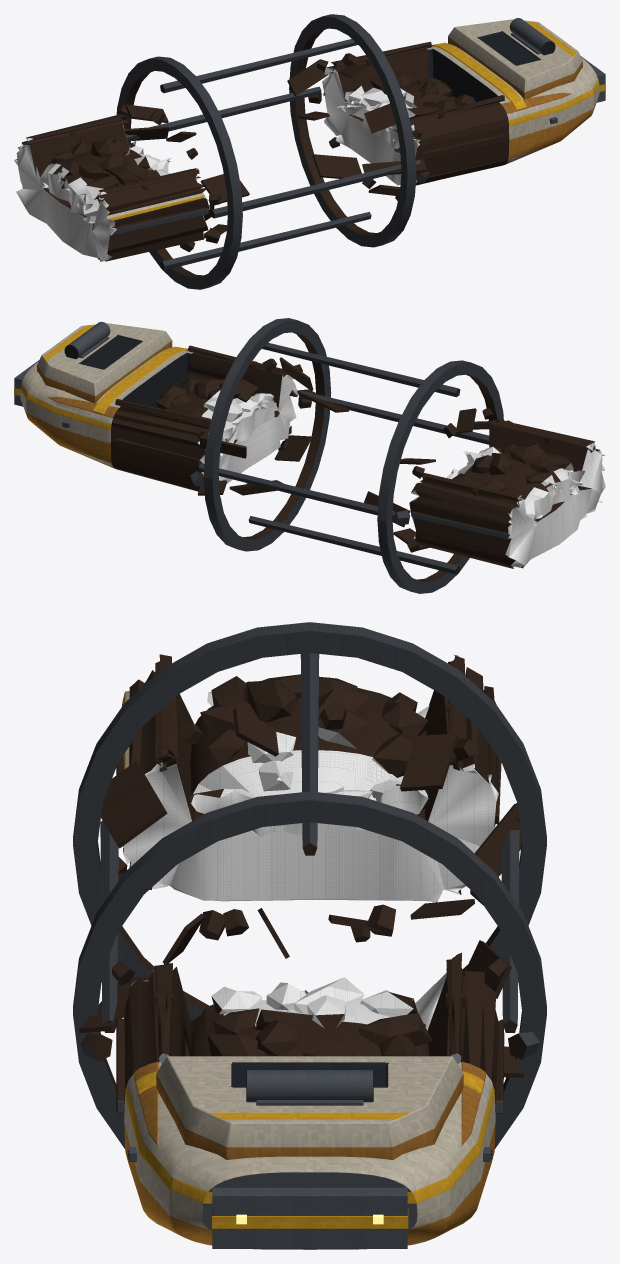
The model's file is wreck_ore_freighter_bow.glb.
3 renders of one model, top to bottom at view 1: azimuth 30°, elevation 25°; view 2: azimuth 150°, elevation 25°; view 3: azimuth 270°, elevation 25°, orthographic. The views are drawn at different scales.
Visible parts, largest first — view 1: Hull.001, Hull, GapRing1, GapRing0, Forecastle, H2Heap, GapChord3, GapChord2, GapChord1, GapChord0, PipeRun_M, H0Heap.001 (+17 smaller); view 2: Hull.001, Hull, GapRing1, GapRing0, Forecastle, H2Heap, GapChord3, GapChord2, H0Heap.001, GapChord0, GapChord1, PipeRun (+12 smaller); view 3: Hull.001, Hull, GapRing0, GapRing1, Forecastle, BowFender, H2Heap, Windlass, H0Heap.001, woundFore_t_tear3, GapChord2, woundFore_t_tear1 (+31 smaller).
Part boxes in pixels (x1=…): Hull.001: x1=322, y1=42, x2=599, y2=185; Hull: x1=16, y1=122, x2=209, y2=261; GapRing1: x1=289, y1=14, x2=416, y2=247; GapRing0: x1=116, y1=56, x2=242, y2=289; Forecastle: x1=448, y1=19, x2=582, y2=99; H2Heap: x1=38, y1=149, x2=170, y2=223; GapChord3: x1=160, y1=212, x2=371, y2=270; GapChord2: x1=160, y1=39, x2=357, y2=93; GapChord1: x1=210, y1=160, x2=420, y2=218; GapChord0: x1=126, y1=86, x2=321, y2=141; PipeRun_M: x1=98, y1=168, x2=200, y2=199; H0Heap.001: x1=337, y1=82, x2=456, y2=149; Hull.001: x1=20, y1=346, x2=298, y2=491; Hull: x1=409, y1=425, x2=605, y2=568; GapRing1: x1=203, y1=318, x2=331, y2=551; GapRing0: x1=377, y1=360, x2=503, y2=593; Forecastle: x1=37, y1=323, x2=172, y2=403; H2Heap: x1=457, y1=452, x2=582, y2=525; GapChord3: x1=248, y1=516, x2=460, y2=574; GapChord2: x1=262, y1=343, x2=460, y2=397; H0Heap.001: x1=166, y1=390, x2=280, y2=456; GapChord0: x1=198, y1=464, x2=409, y2=519; GapChord1: x1=298, y1=390, x2=489, y2=444; PipeRun: x1=420, y1=473, x2=524, y2=504; Hull.001: x1=123, y1=966, x2=498, y2=1249; Hull: x1=122, y1=667, x2=498, y2=902; GapRing0: x1=73, y1=622, x2=546, y2=1021; GapRing1: x1=73, y1=791, x2=546, y2=1148; Forecastle: x1=156, y1=1056, x2=463, y2=1159; BowFender: x1=211, y1=1187, x2=408, y2=1248; H2Heap: x1=190, y1=687, x2=428, y2=837; Windlass: x1=246, y1=1070, x2=373, y2=1102; H0Heap.001: x1=190, y1=999, x2=429, y2=1056; woundFore_t_tear3: x1=101, y1=761, x2=167, y2=848; GapChord2: x1=300, y1=653, x2=319, y2=855; woundFore_t_tear1: x1=400, y1=733, x2=458, y2=791.
Size of the model in its own units: 179 by 70.12 by 70.12.
14 materials, 13 textured.
